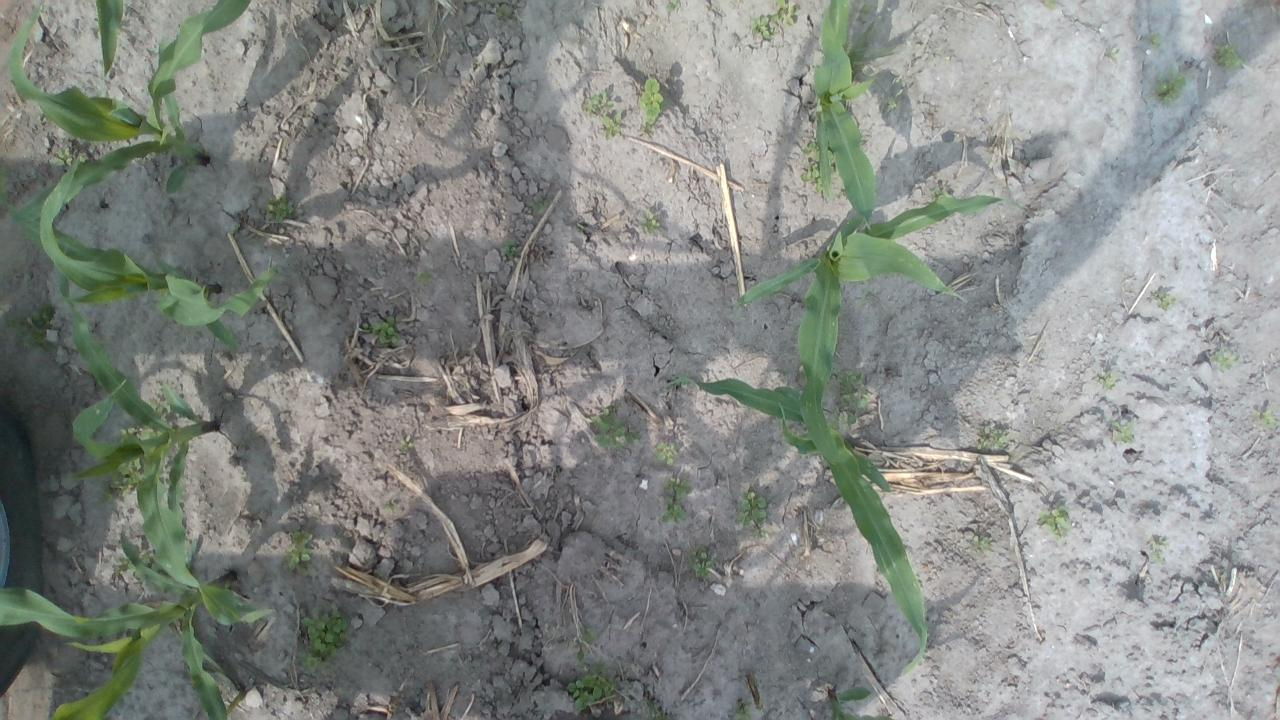Maize: (664, 374, 931, 684), (734, 193, 1027, 469), (8, 0, 252, 231), (47, 271, 222, 569), (0, 534, 278, 720), (36, 154, 280, 352), (811, 0, 880, 230), (826, 686, 894, 720)
Weeds: (299, 606, 349, 673), (566, 661, 615, 712), (588, 404, 642, 450), (100, 456, 143, 503), (751, 0, 798, 40), (638, 77, 668, 134), (733, 482, 768, 530), (835, 369, 874, 408), (284, 529, 314, 576), (660, 478, 690, 524), (1040, 504, 1074, 544), (362, 314, 401, 346), (1154, 68, 1186, 106), (264, 192, 296, 224), (686, 544, 714, 578), (147, 398, 183, 424), (976, 426, 1007, 455), (580, 90, 616, 114), (574, 626, 597, 663), (1215, 42, 1243, 71), (598, 109, 624, 139), (654, 438, 680, 466), (800, 164, 824, 193), (638, 207, 663, 234), (118, 423, 152, 441), (1109, 420, 1135, 441), (1148, 536, 1170, 560), (831, 413, 858, 431), (50, 148, 74, 168), (527, 197, 551, 216), (1214, 350, 1238, 369), (972, 530, 991, 552), (113, 558, 136, 576), (648, 703, 672, 720), (1259, 408, 1279, 428), (498, 238, 518, 257), (826, 149, 840, 175), (736, 700, 754, 720), (184, 542, 200, 564), (1158, 292, 1176, 311), (493, 0, 513, 17), (804, 141, 820, 161), (1103, 371, 1120, 389), (399, 434, 414, 452), (414, 270, 432, 284), (138, 548, 152, 566), (664, 0, 680, 13), (1148, 32, 1161, 48), (859, 0, 870, 17), (1043, 0, 1057, 11), (886, 99, 898, 110), (1109, 46, 1120, 58), (78, 154, 90, 164), (1219, 573, 1229, 584), (830, 366, 840, 375)
